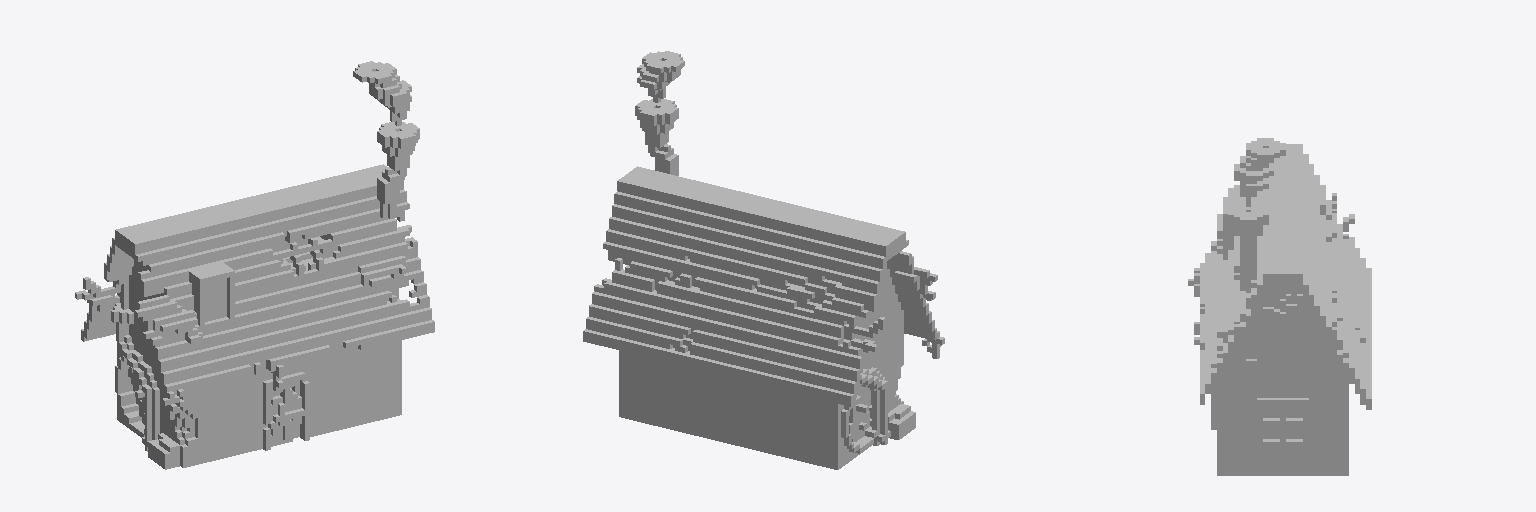
Rendered from thiefs_home_1.obj.
3 views of the same model, side by side, from view 1: azimuth 30°, elevation 25°; view 2: azimuth 150°, elevation 25°; view 3: azimuth 270°, elevation 25° (orthographic).
Parts seen in each view (by area): view 1: thiefs_home (1); view 2: thiefs_home (1); view 3: thiefs_home (1).
Part boxes in pixels (left/top/right/bottom): thiefs_home (1): left=75, top=61, right=434, bottom=469; thiefs_home (1): left=583, top=51, right=944, bottom=469; thiefs_home (1): left=1188, top=138, right=1371, bottom=475.
Bounding box in the file's own units: 58 × 63 × 32.